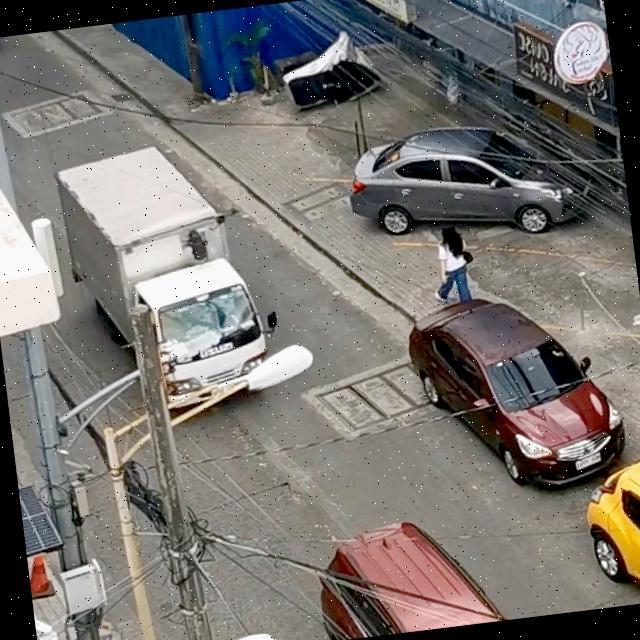Truck: (14, 104, 310, 450)
